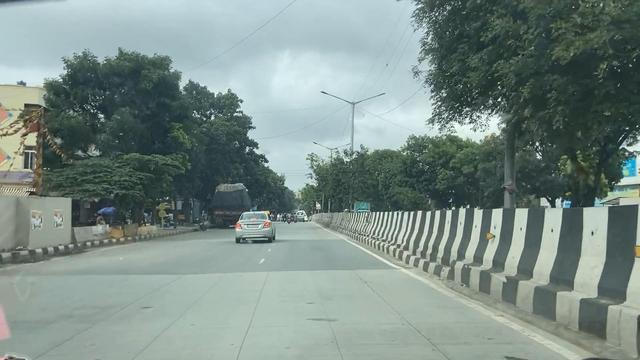LMV: (234, 209, 276, 239)
